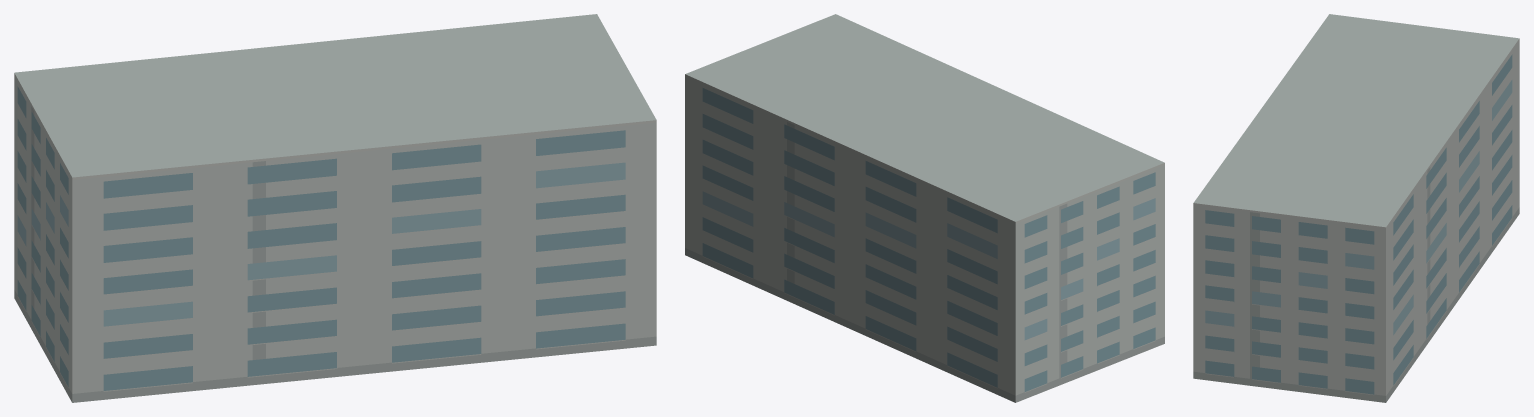
Rendered from survey-upis-32859673.glb.
The picture shows the model from 3 angles, left to right: view 1: azimuth 30°, elevation 25°; view 2: azimuth 150°, elevation 25°; view 3: azimuth 270°, elevation 25°; orthographic projection. The views are drawn at different scales.
Parts seen in each view (by area): view 1: survey-upis-32859673.tmp; view 2: survey-upis-32859673.tmp; view 3: survey-upis-32859673.tmp.
Part boxes in pixels (box(x1,y1,x2,y2)): survey-upis-32859673.tmp: box(14, 14, 656, 402); survey-upis-32859673.tmp: box(685, 14, 1164, 402); survey-upis-32859673.tmp: box(1193, 14, 1519, 402).
Bounding box in the file's own units: 57.58 × 22.1 × 37.21.
